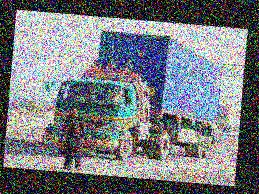truck: (41, 25, 224, 171)
